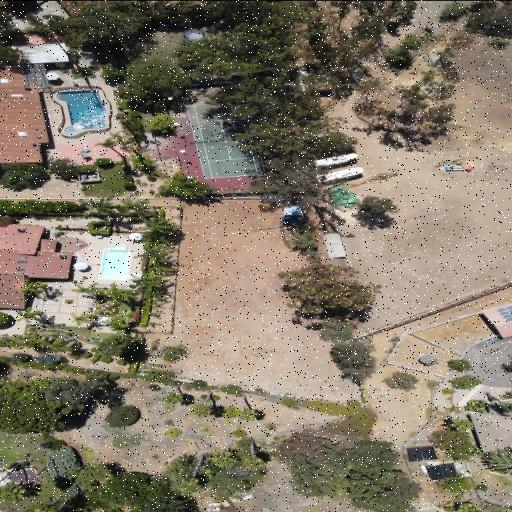solar-panel: (495, 304, 512, 321)
